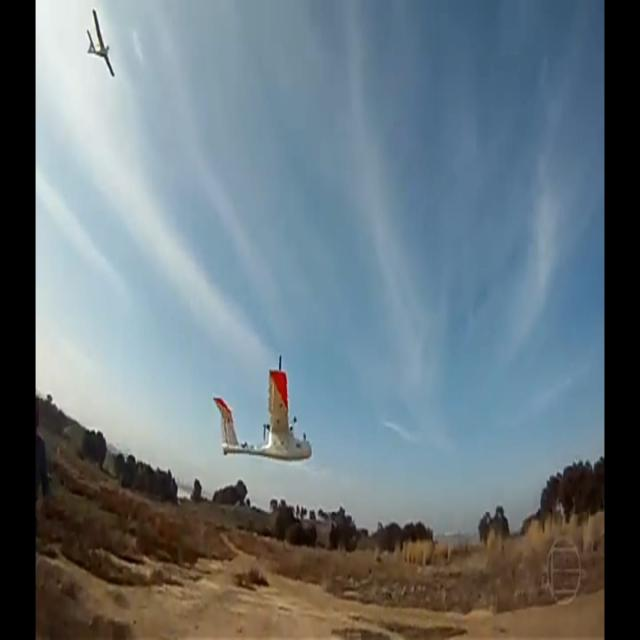iha: (238, 387, 275, 431), (21, 41, 52, 44)
